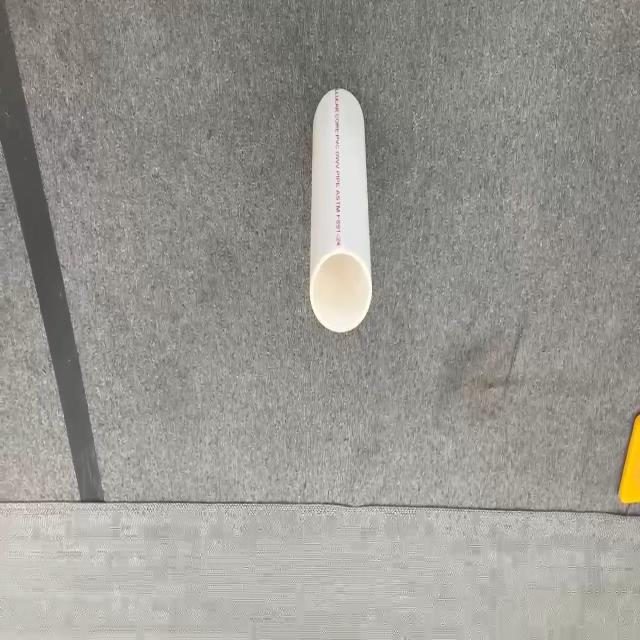coral: (308, 86, 372, 332)
